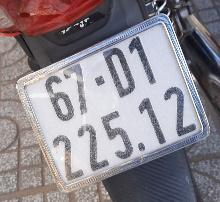1: (124, 31, 166, 91), (132, 93, 173, 151)
2: (158, 81, 202, 143), (72, 119, 117, 177), (48, 128, 91, 187)
5: (98, 107, 139, 165)
6: (37, 72, 79, 126)
7: (57, 61, 96, 120)
D: (100, 44, 142, 102)
